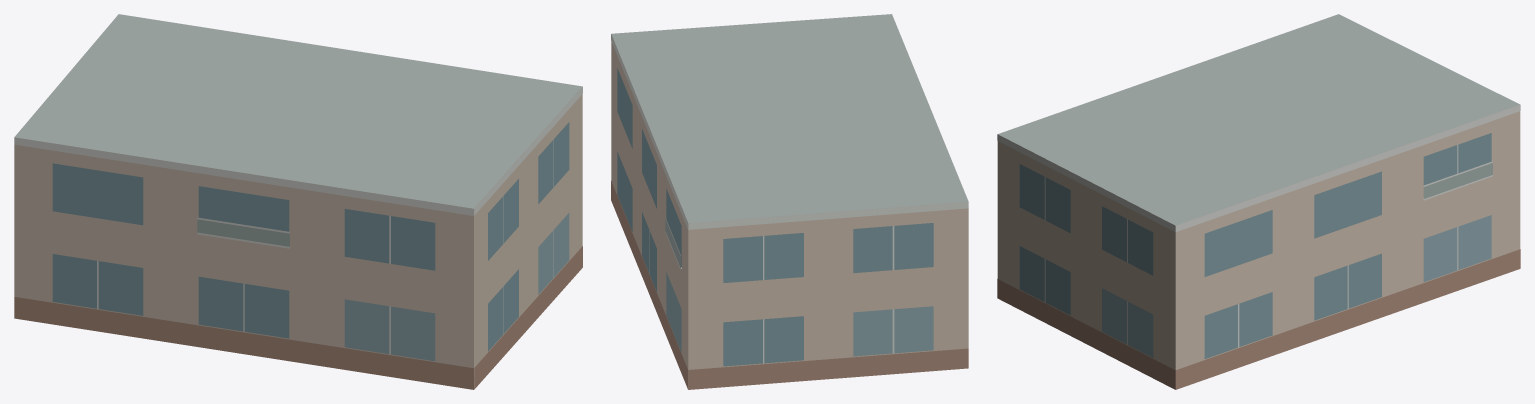
File: survey-upis-32832945.glb
The picture shows the model from 3 angles, left to right: view 1: azimuth 30°, elevation 25°; view 2: azimuth 150°, elevation 25°; view 3: azimuth 270°, elevation 25°; orthographic projection. The views are drawn at different scales.
Visible parts, largest first — view 1: survey-upis-32832945.tmp; view 2: survey-upis-32832945.tmp; view 3: survey-upis-32832945.tmp.
Boxes of the visible parts, x1=… form: survey-upis-32832945.tmp: x1=14, y1=14, x2=582, y2=389; survey-upis-32832945.tmp: x1=611, y1=14, x2=968, y2=389; survey-upis-32832945.tmp: x1=997, y1=14, x2=1520, y2=389.
Bounding box in the file's own units: 16.88 × 6.1 × 17.61.
